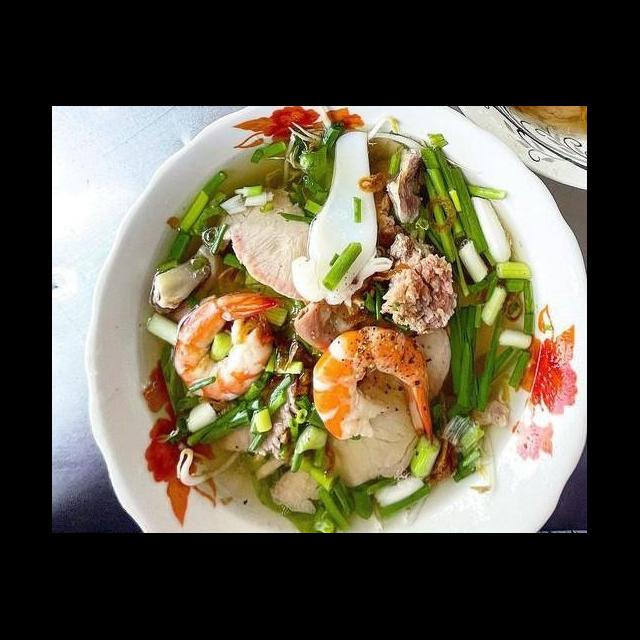thit bam: (382, 226, 462, 340)
thit heo: (262, 310, 458, 520), (220, 180, 358, 308), (210, 349, 302, 464)
tom: (302, 320, 443, 452), (167, 288, 286, 406)
